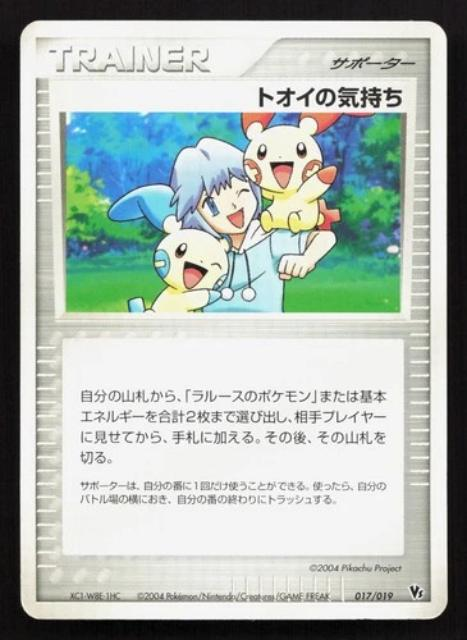Card: (15, 16, 453, 626)
Name: (248, 79, 413, 113)
